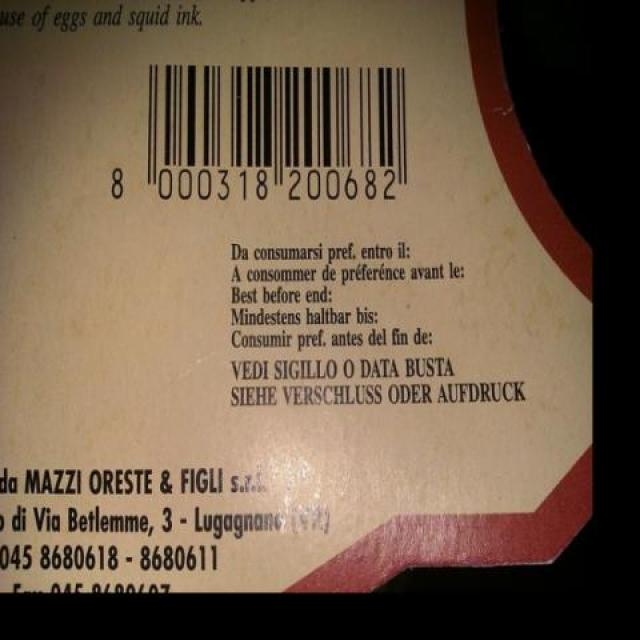Barcode: (97, 43, 430, 226)
